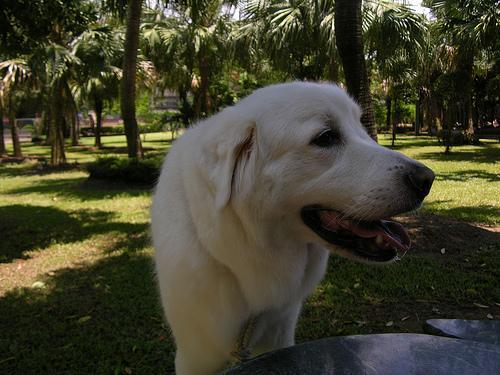Great_Pyrenees: (145, 76, 437, 373)
